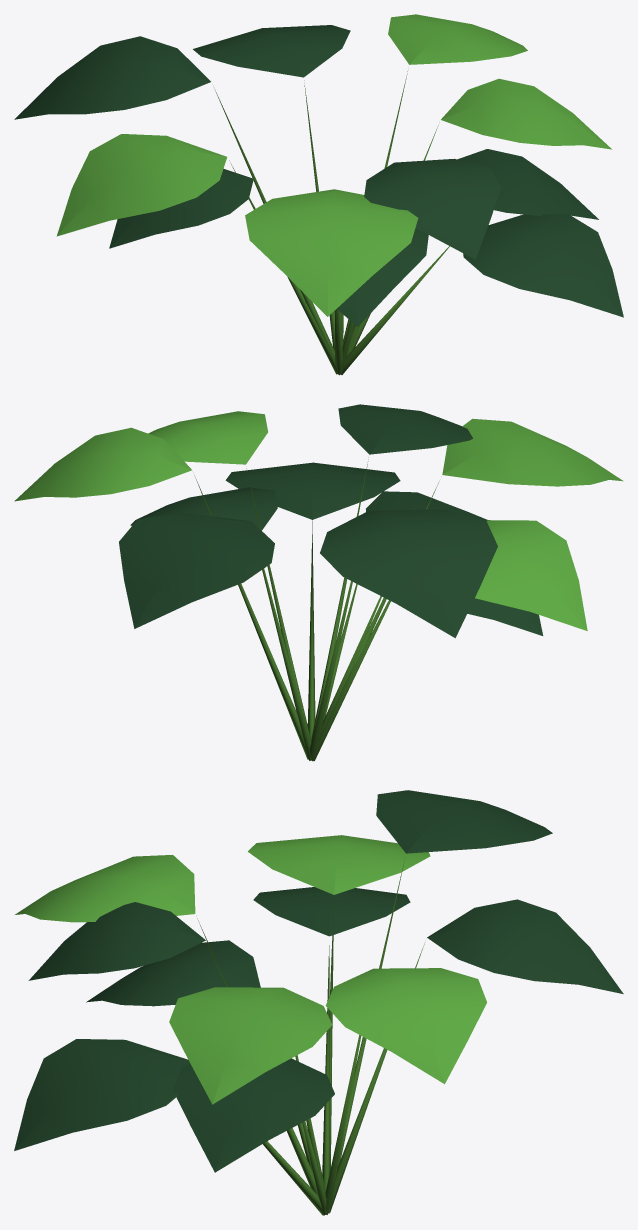
The model's file is plant_monstera-a.glb.
The picture shows the model from 3 angles, top to bottom: view 1: azimuth 30°, elevation 25°; view 2: azimuth 150°, elevation 25°; view 3: azimuth 270°, elevation 25°; orthographic projection. The views are drawn at different scales.
Visible parts, largest first — view 1: plant_monstera-a; view 2: plant_monstera-a; view 3: plant_monstera-a.
Part boxes in pixels (<box>): plant_monstera-a: <box>14,14,623,375</box>; plant_monstera-a: <box>14,404,623,761</box>; plant_monstera-a: <box>14,790,623,1215</box>.
Size of the model in its own units: 0.8643 by 0.5 by 0.8355.
